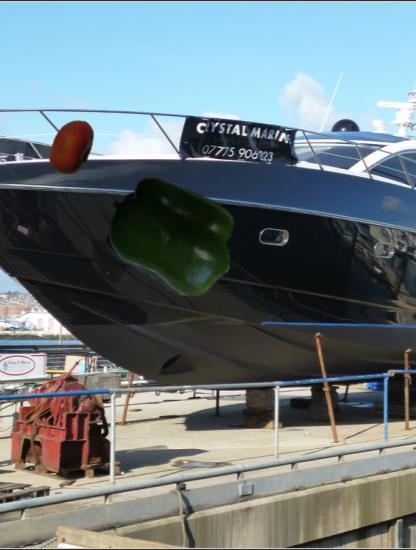Nectarine: (43, 118, 102, 177)
Pepper: (105, 170, 238, 303)
